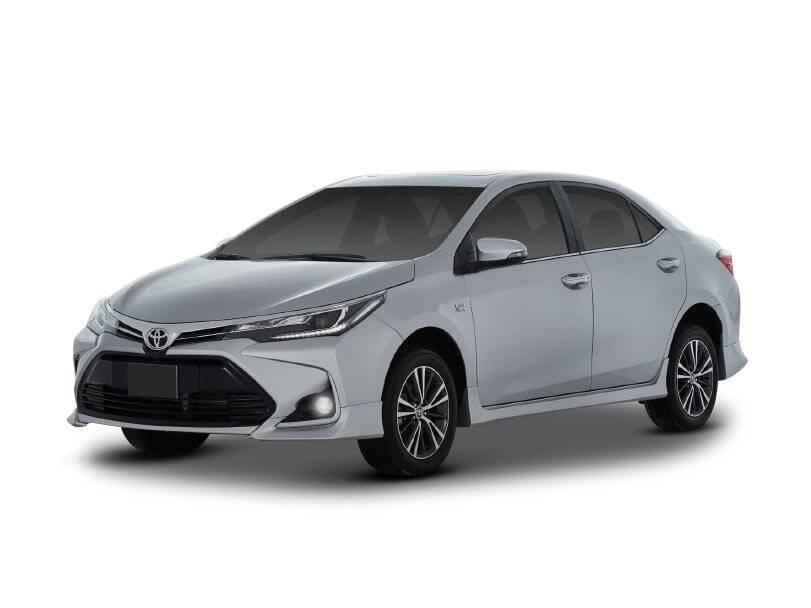windshield: (205, 175, 495, 270)
